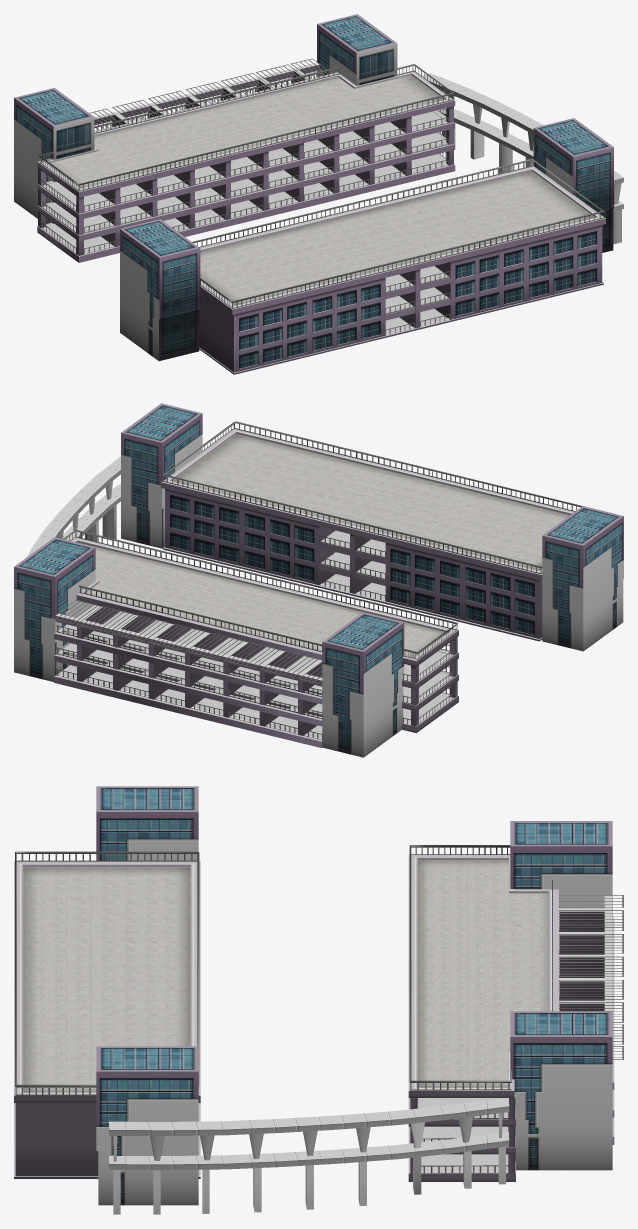
Rendered from 东二教学楼.obj.
The picture shows the model from 3 angles, top to bottom: view 1: azimuth 30°, elevation 25°; view 2: azimuth 150°, elevation 25°; view 3: azimuth 270°, elevation 25°; orthographic projection. The views are drawn at different scales.
Bounding box in the file's own units: 2300 × 486 × 2010.
